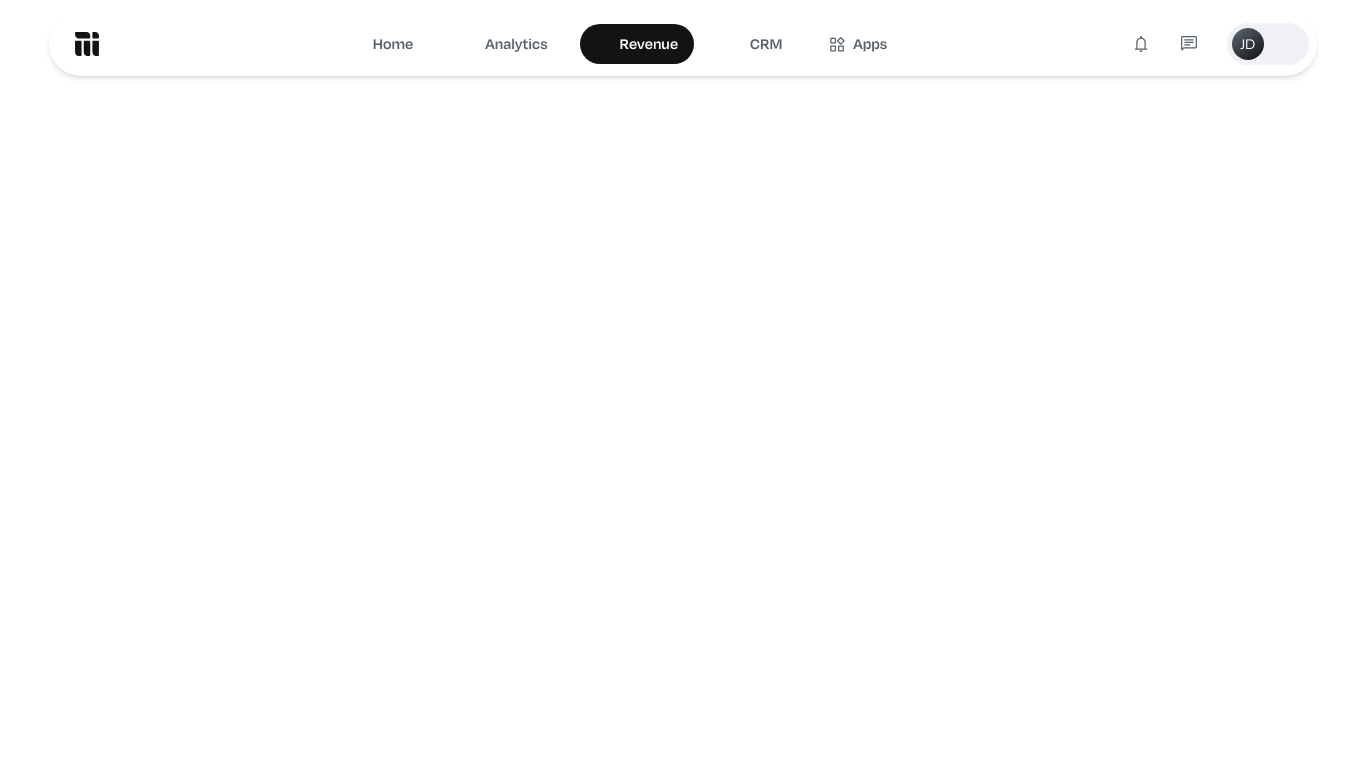
Test: Nav › displays user information in menu
Step 1. Click the text "JD" → (1248, 44), box [1232, 28, 1264, 60]
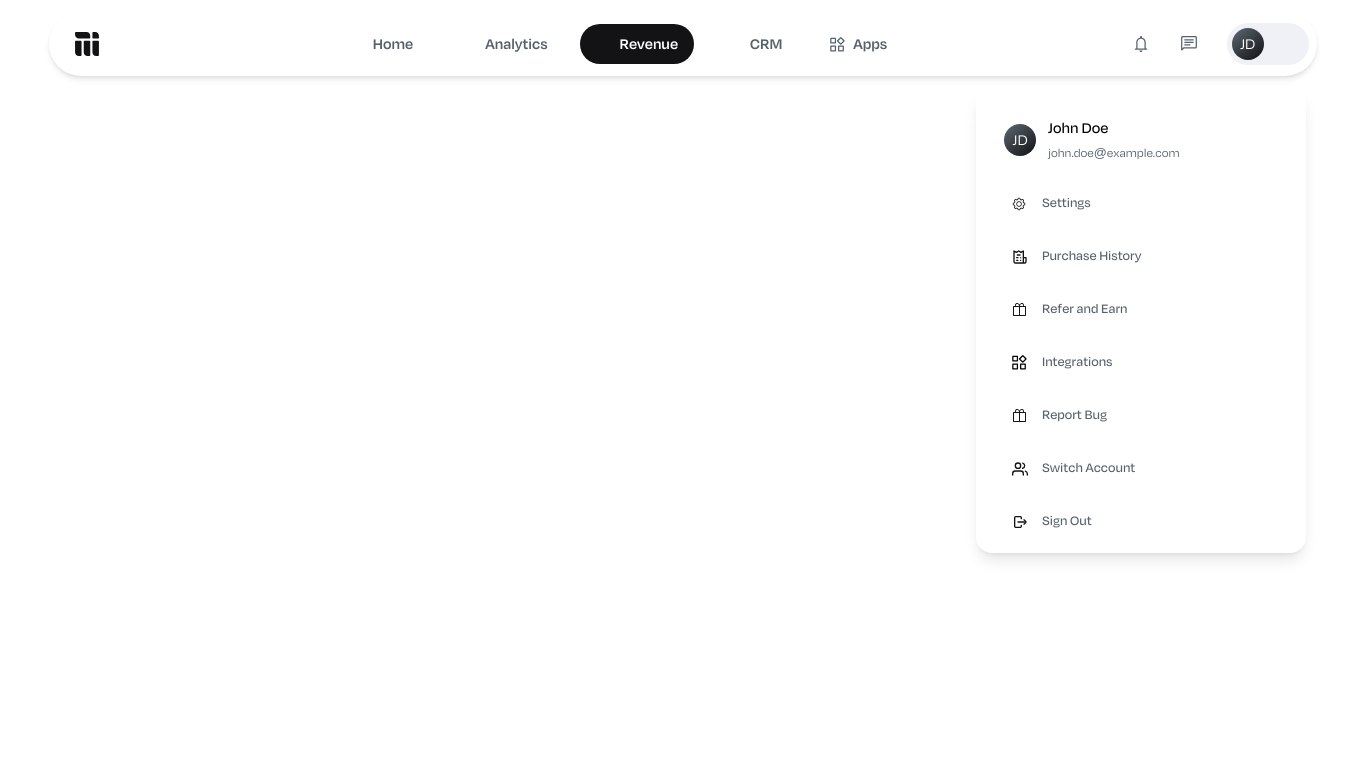
Result: the text "John Doe" is shown at [1048, 117, 1108, 138]
Result: the text "john.doe@example.com" is shown at [1048, 144, 1180, 161]
